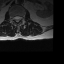CCS_normal: (16, 12, 18, 25)
LFS_normal: (21, 13, 23, 21)
LLS_normal: (18, 13, 21, 23)
RFS_normal: (11, 13, 13, 22)
RLS_normal: (13, 14, 16, 22)
